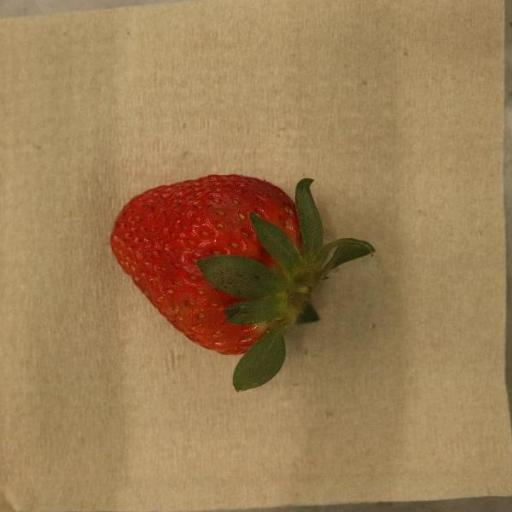Strawberry: (111, 175, 377, 393)
